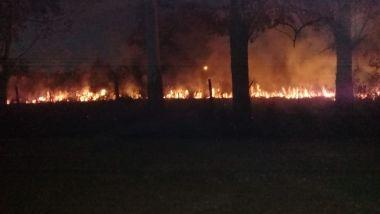fire: (251, 88, 331, 97), (79, 89, 112, 102), (36, 93, 67, 102), (166, 89, 189, 99)
